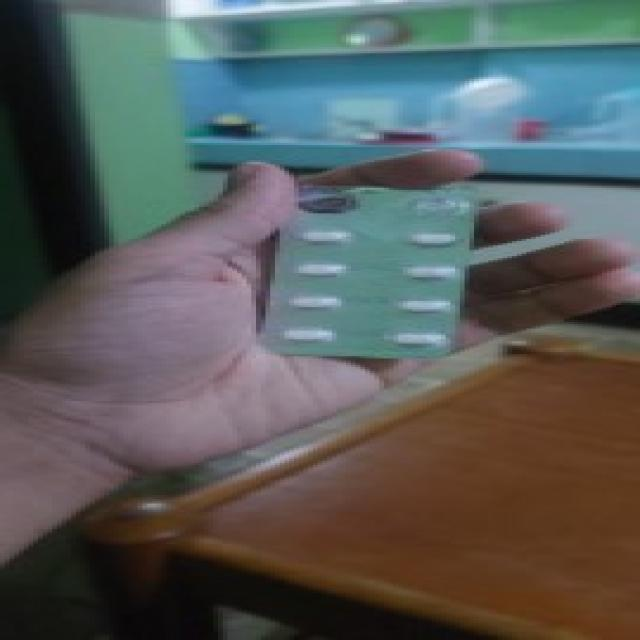Cacat: (254, 178, 478, 358)
Kemasan: (275, 183, 377, 225)
